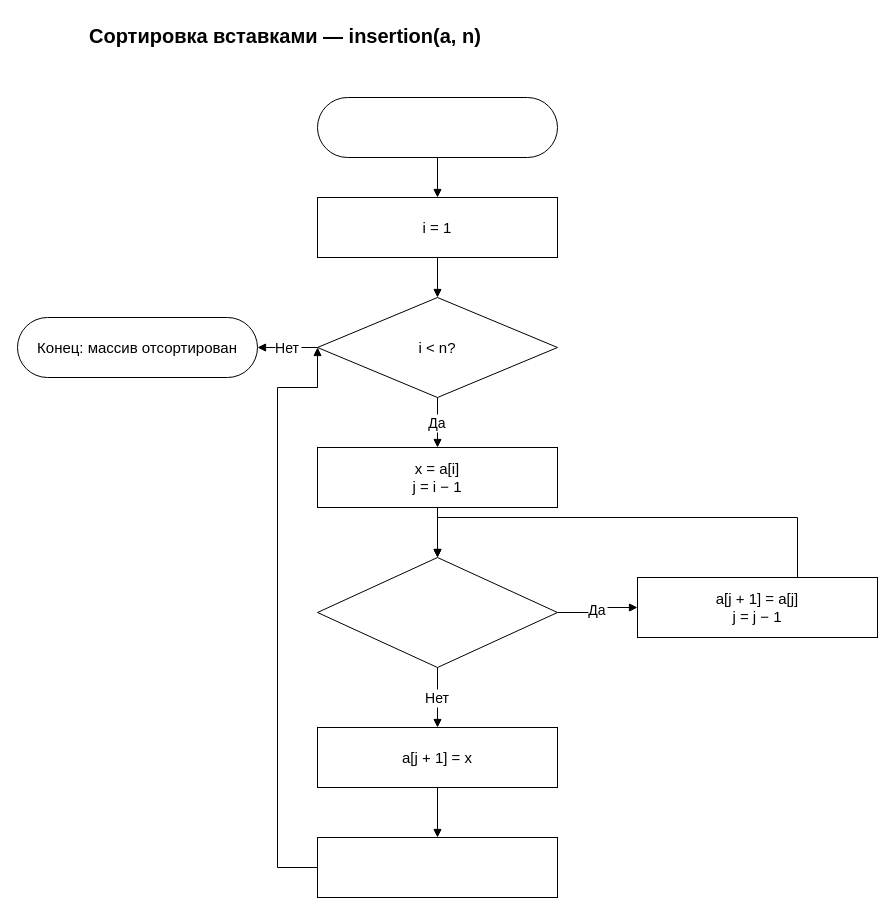
Image size: 895x915. Some labels were removed from this diagram. The centre of each missing label's shape, as x and y in pixels:
"i = i + 1" goes at point (437, 867).
"j ≥ 0 и a[j] > x?" goes at point (437, 612).
"Начало: массив a, длина n" goes at point (437, 127).
